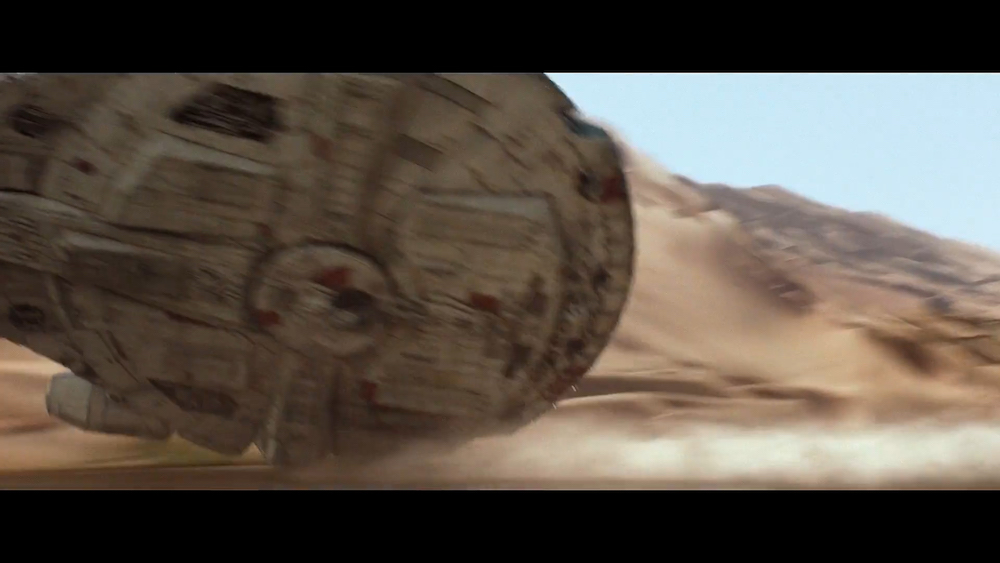Millennium Falcon: (1, 74, 637, 472)
